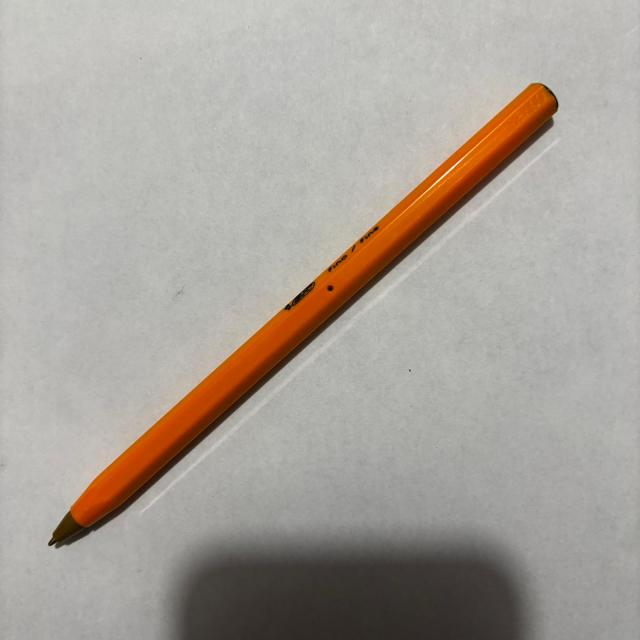pencil: (48, 84, 560, 550)
